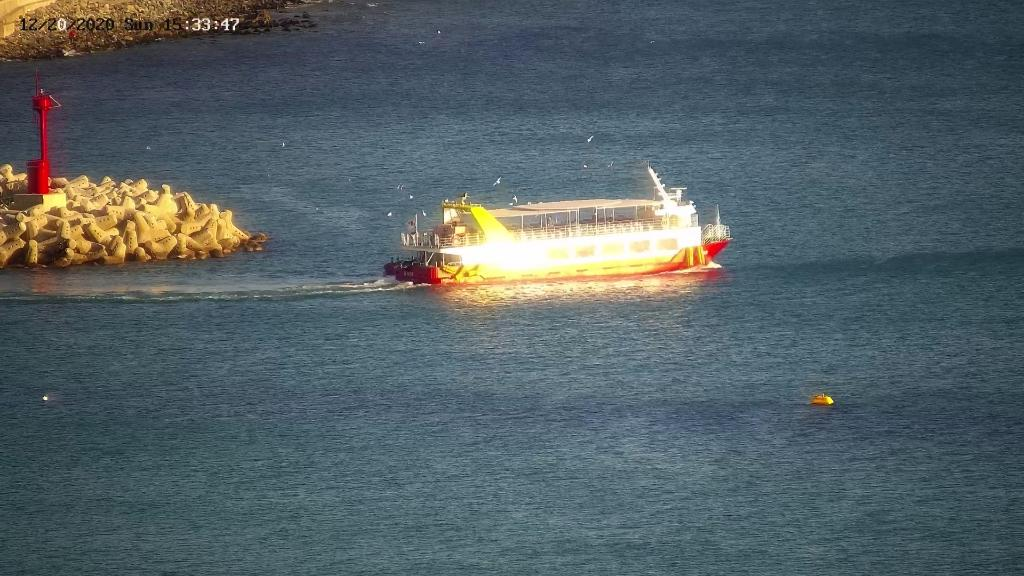PassengerShip: (387, 168, 735, 290)
